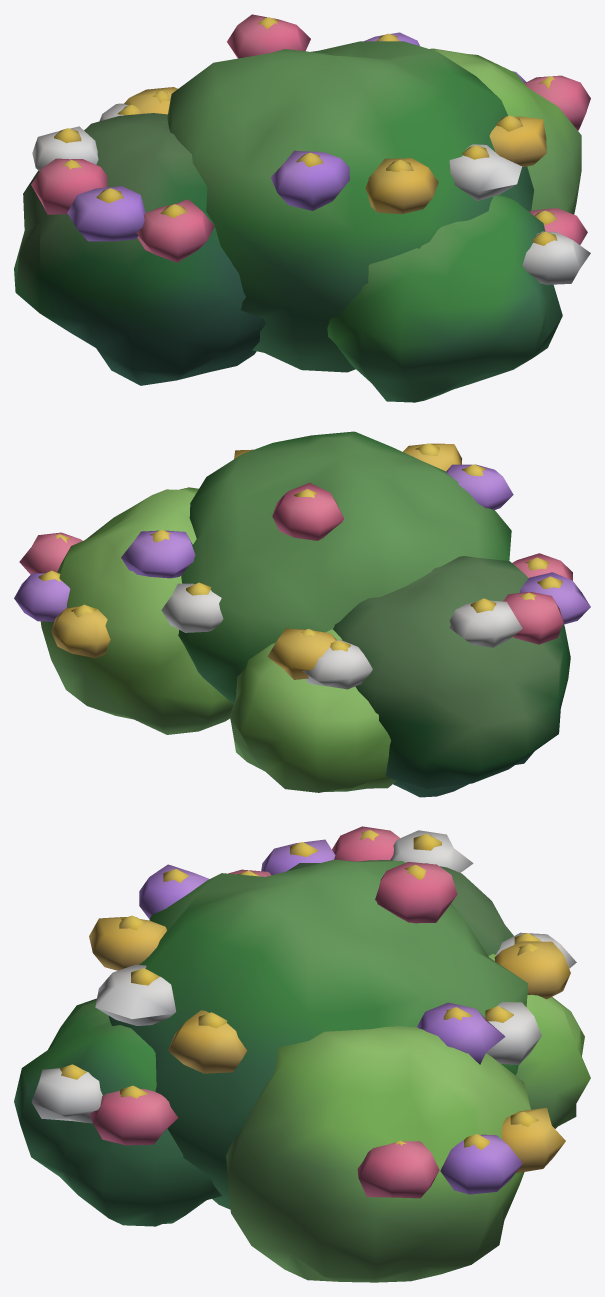
Rendered from FlowerBush.fbx.
3 renders of one model, top to bottom at view 1: azimuth 30°, elevation 25°; view 2: azimuth 150°, elevation 25°; view 3: azimuth 270°, elevation 25°, orthographic. The views are drawn at different scales.
Parts seen in each view (by area): view 1: SM_Prop_FlowerBush; view 2: SM_Prop_FlowerBush; view 3: SM_Prop_FlowerBush.
Boxes of the visible parts, x1,y1,x2,y2 form: SM_Prop_FlowerBush: [14, 14, 590, 402]; SM_Prop_FlowerBush: [14, 431, 590, 797]; SM_Prop_FlowerBush: [14, 826, 590, 1282].
Size of the model in its own units: 5.26 by 2.69 by 4.33.
